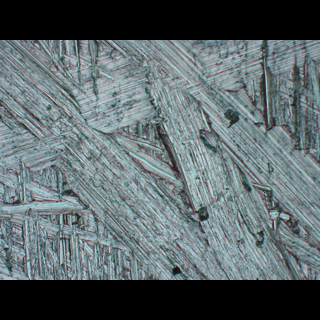d: (0, 40, 319, 279)
